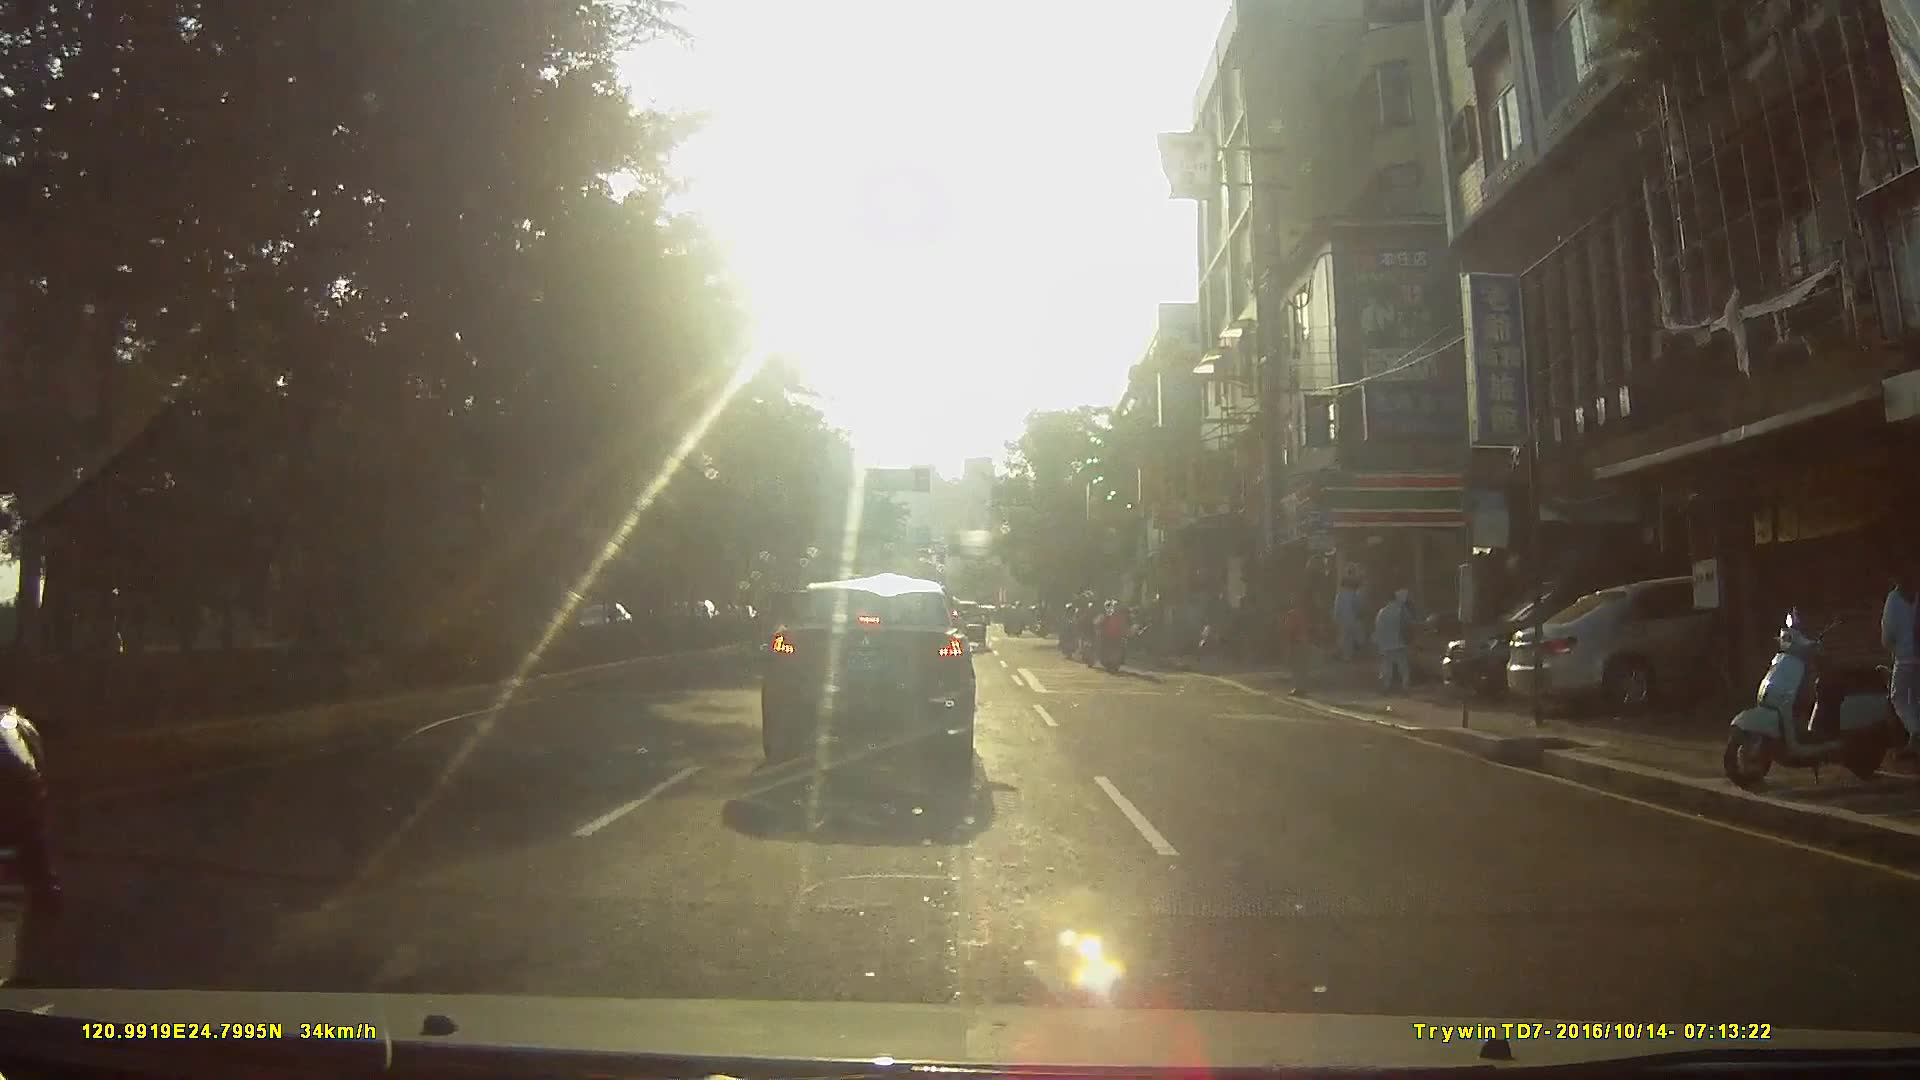pedestrian: (1884, 557, 1920, 760), (1369, 586, 1416, 701), (1285, 584, 1317, 697)
rider: (1093, 597, 1132, 676), (1076, 601, 1102, 672), (1058, 606, 1080, 666)
vehicle: (1434, 560, 1819, 711), (1497, 576, 1870, 723), (744, 574, 996, 776)
